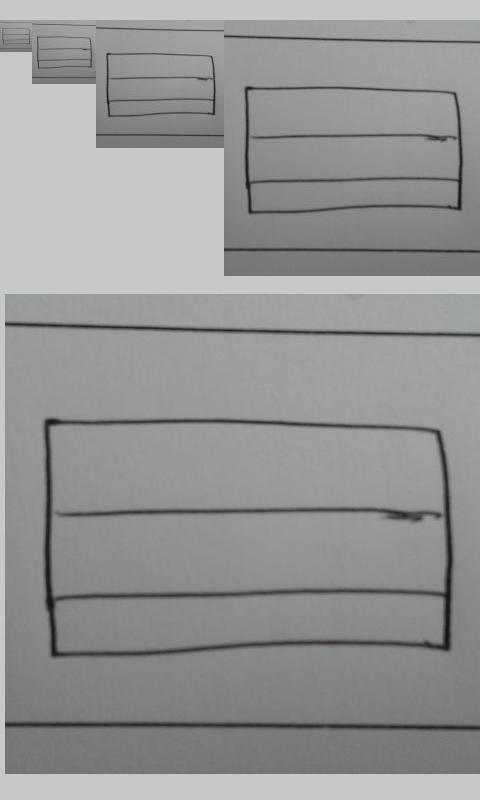list_view: (41, 416, 454, 661), (244, 86, 464, 215), (105, 51, 217, 118), (36, 35, 93, 69), (1, 27, 31, 45)
